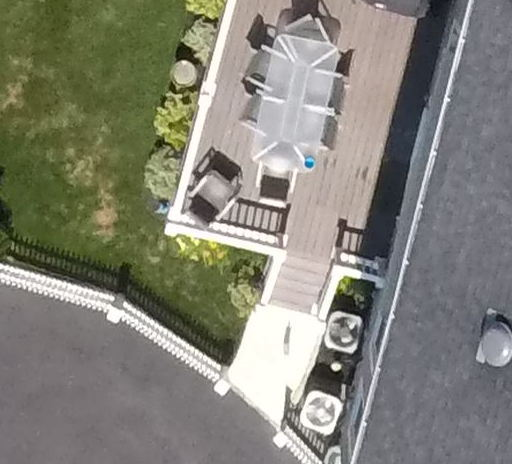air conditioner: (297, 380, 352, 441), (320, 309, 369, 355)
bird bath: (167, 54, 204, 91)
container: (301, 154, 322, 172)
porch: (150, 1, 473, 246)
